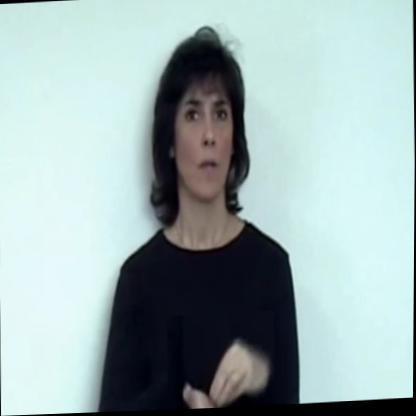Expensive: (167, 312, 276, 411)
